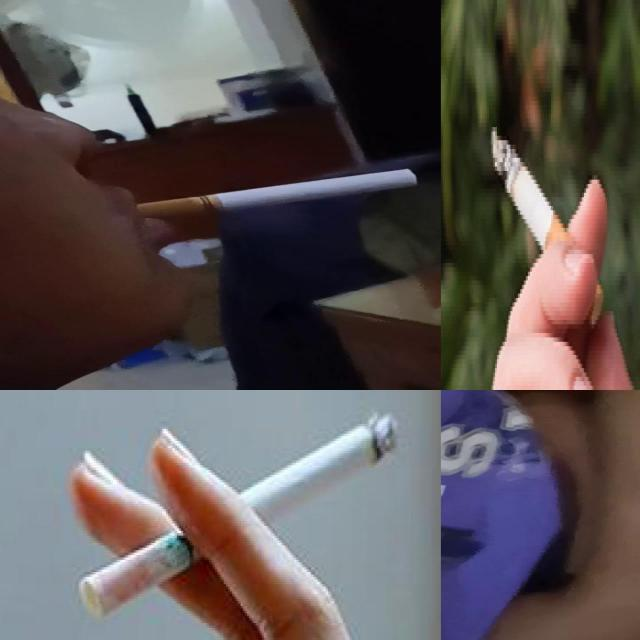cigarette: (72, 409, 400, 621), (133, 167, 424, 220), (487, 118, 557, 242)
